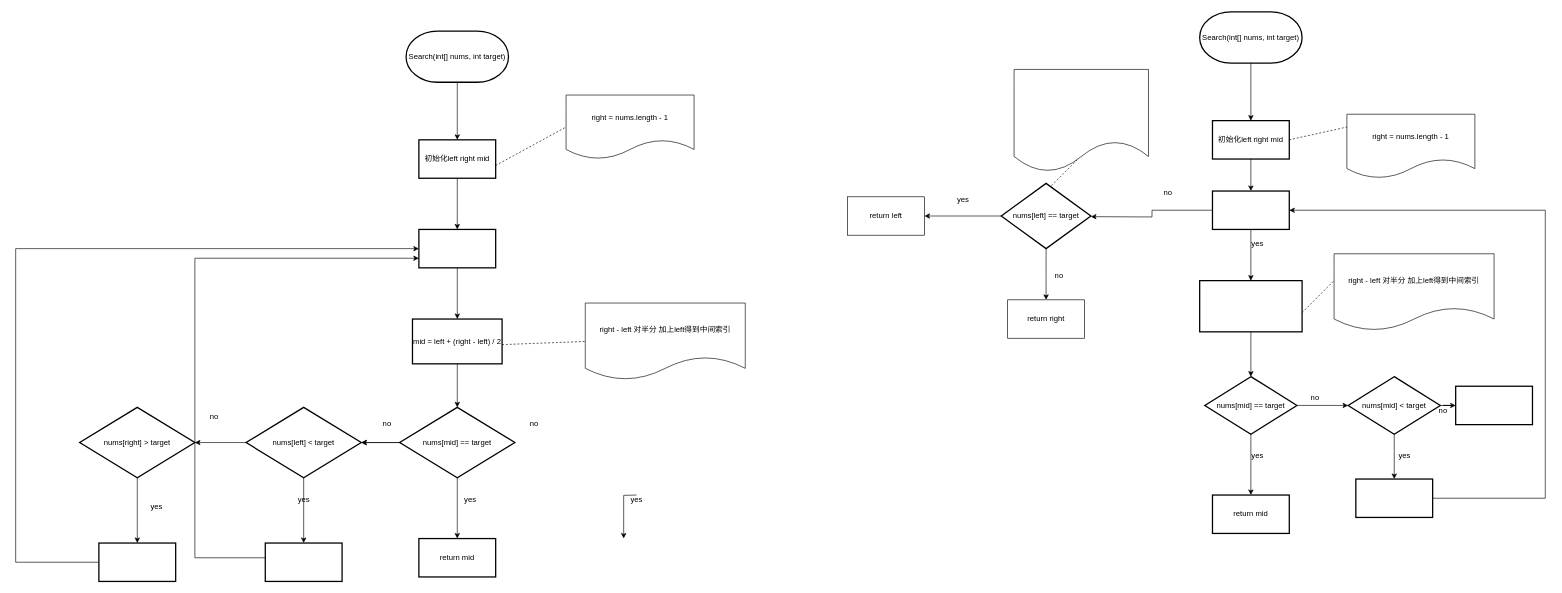
Image size: 1562x593. Some labels were removed from this diagram. Each missing label, with the centre of its shape:
left = mid: the point at 1394,498
left = mid + 1: the point at 303,562
mid =left + (right - left) / 2: the point at 1250,306
right = mid: the point at 1494,405
right = mid - 1: the point at 137,562
while(left <= right): the point at 457,248
while(right > left): the point at 1251,210
出现两个值的情况: the point at 1080,120
